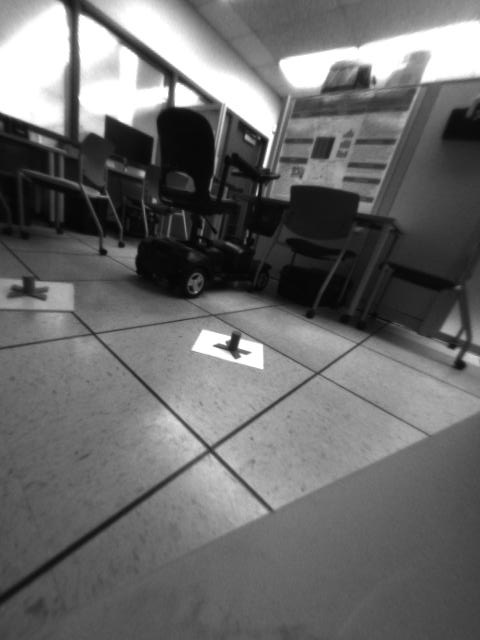X: (4, 275, 48, 300), (214, 330, 250, 360)
